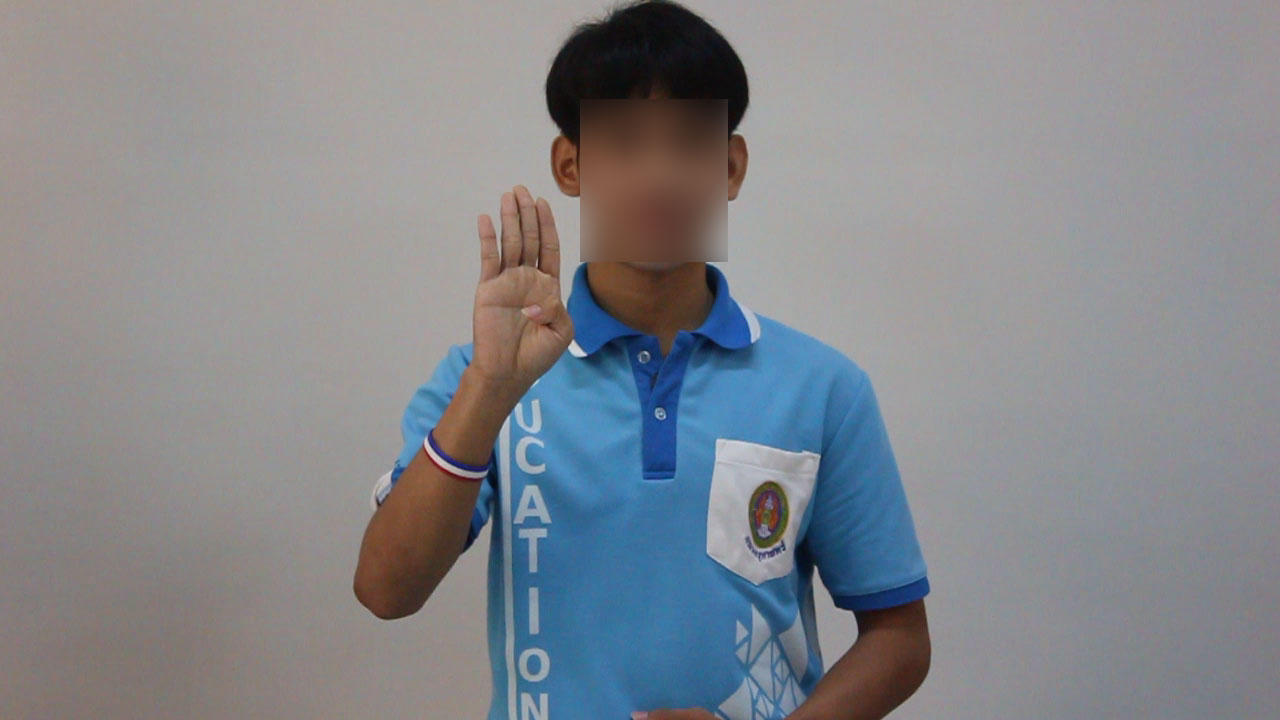bor: (454, 176, 584, 419)
